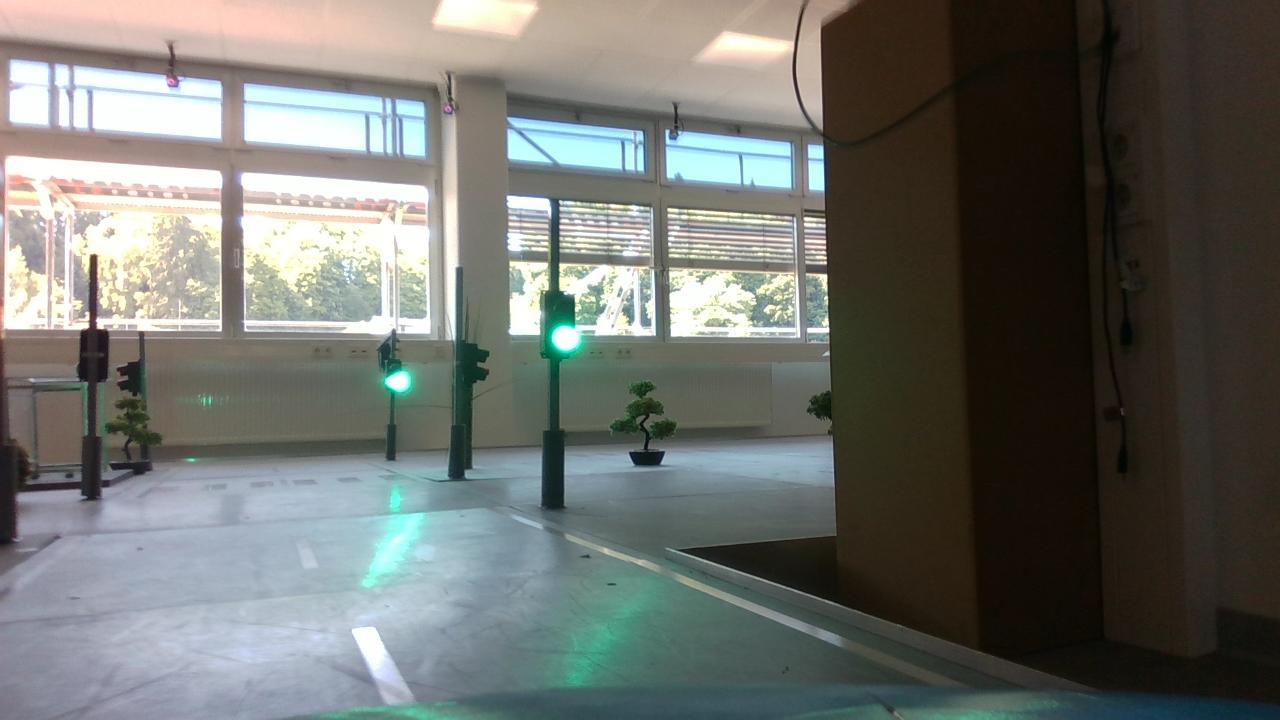traffic_light_green: (533, 286, 583, 372)
